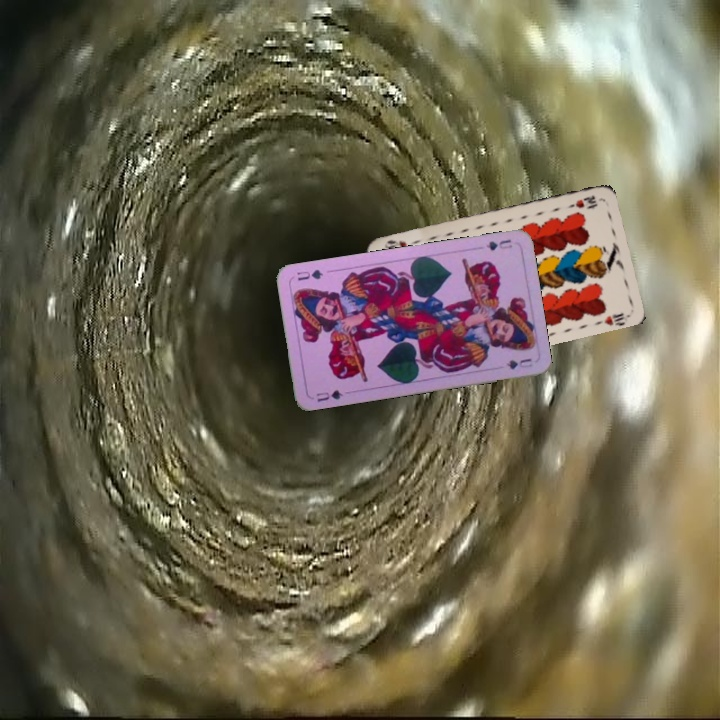GU: (313, 386, 345, 404), (482, 236, 514, 253)
H10: (565, 191, 600, 211)
